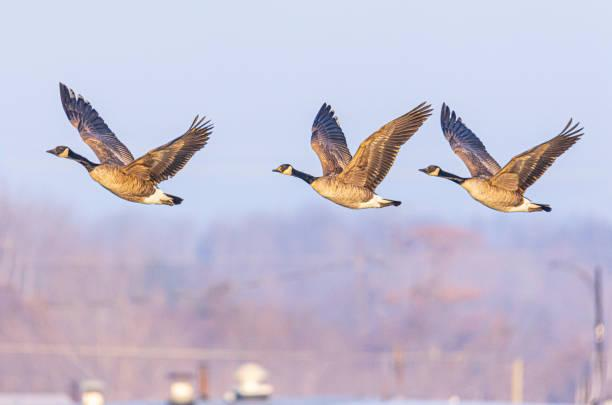Canadian-Goose: (42, 80, 215, 209), (416, 102, 581, 216), (271, 101, 429, 212)
